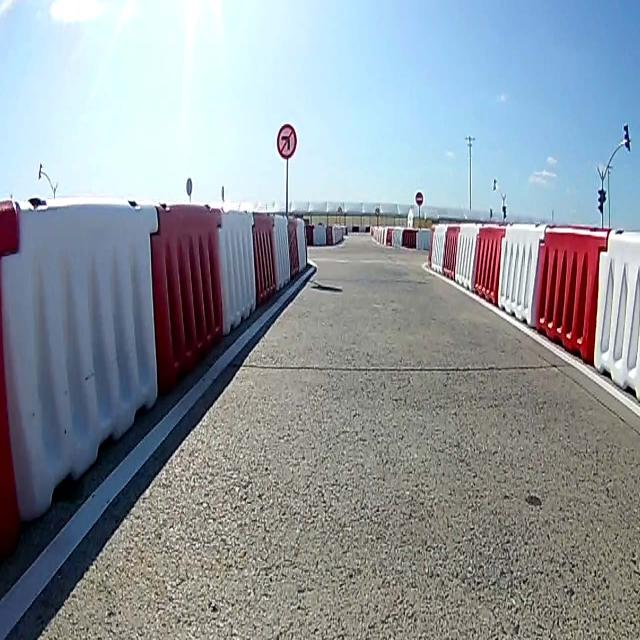girisyok: (415, 190, 423, 206)
soladonulmez: (276, 123, 298, 160)
